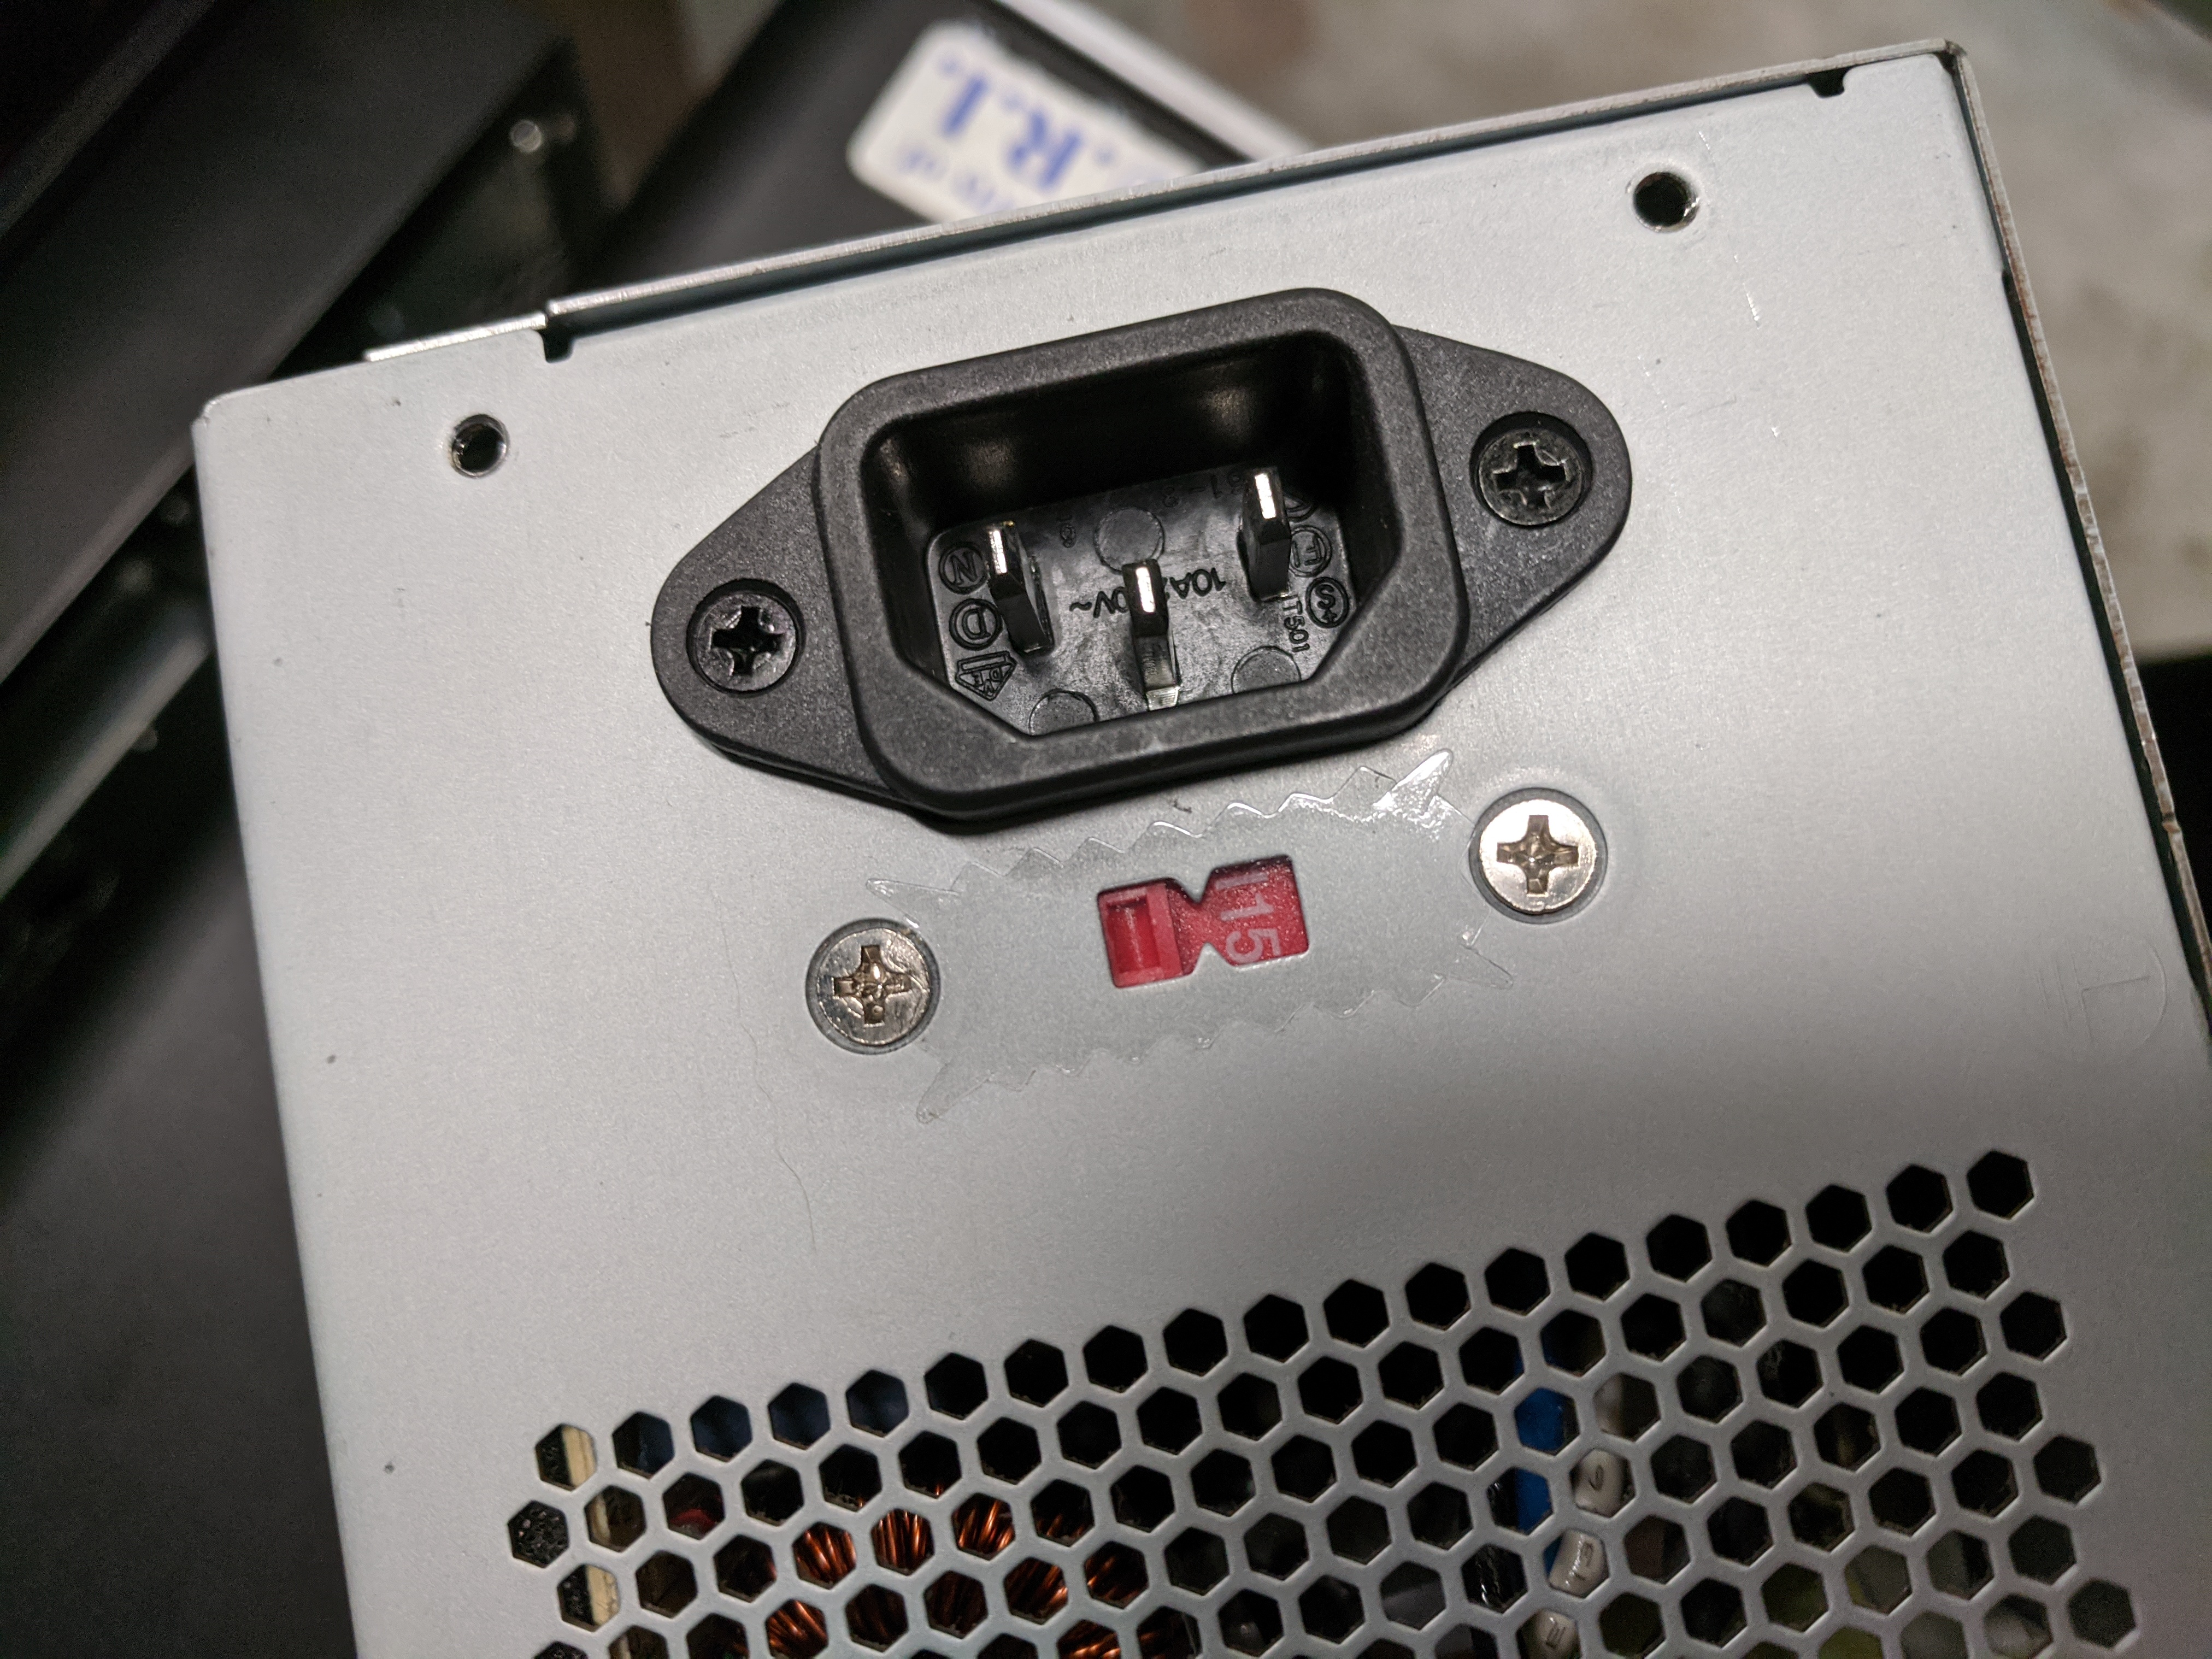cross_recessed_screw: (806, 927, 928, 1039), (1465, 411, 1583, 518), (1486, 789, 1595, 903), (693, 577, 794, 695)
